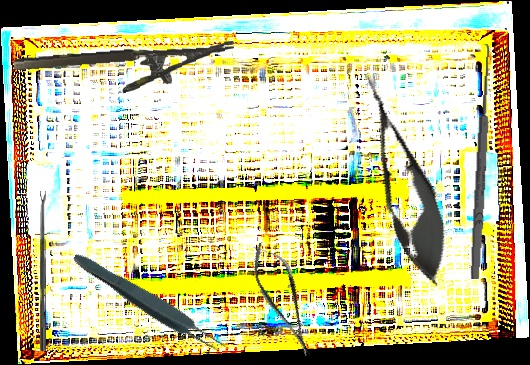Hook Surgical: (459, 43, 496, 280)
Micro Scissor: (343, 65, 465, 294), (242, 236, 324, 363)
Needle Holder: (13, 40, 237, 101)
Surgical Spoon: (40, 191, 47, 351)
Tissue Forceps: (68, 247, 230, 360)
